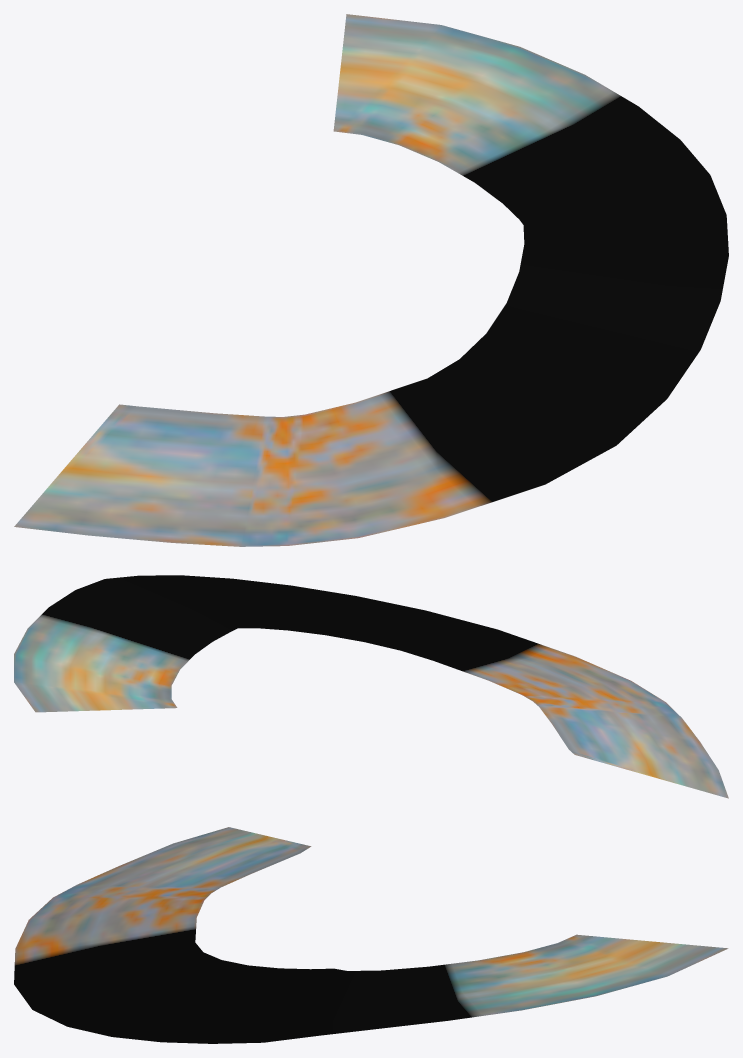
Rendered from daoguang_01.FBX.
The picture shows the model from 3 angles, top to bottom: view 1: azimuth 30°, elevation 25°; view 2: azimuth 150°, elevation 25°; view 3: azimuth 270°, elevation 25°; orthographic projection. The views are drawn at different scales.
Visible parts, largest first — view 1: Plane01; view 2: Plane01; view 3: Plane01.
Boxes of the visible parts, x1=… form: Plane01: x1=14, y1=14, x2=728, y2=546; Plane01: x1=14, y1=575, x2=728, y2=798; Plane01: x1=14, y1=827, x2=728, y2=1043.
Size of the model in its own units: 127 by 26.32 by 115.
